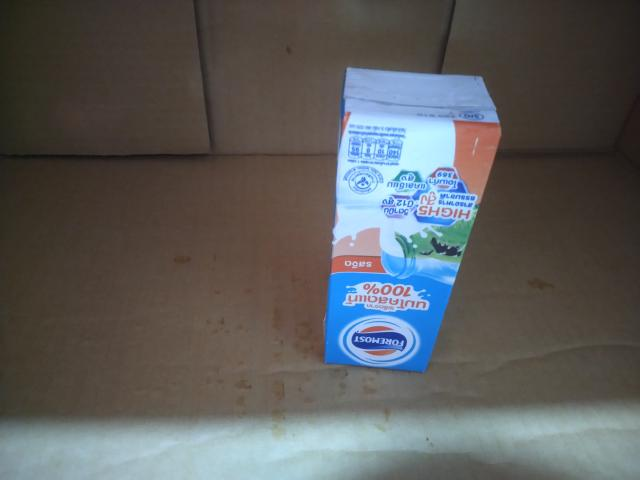drink_box: (313, 56, 500, 396)
